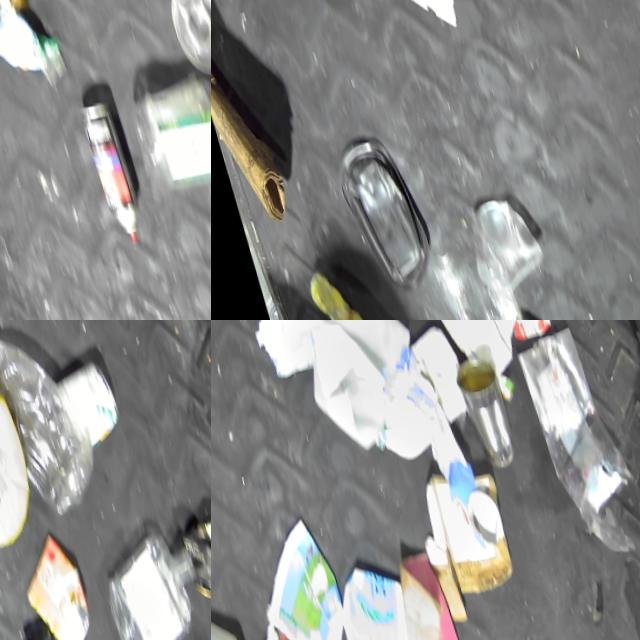can: (1, 516, 95, 640), (71, 90, 145, 243), (461, 178, 547, 296), (445, 339, 520, 468), (49, 344, 125, 446), (494, 320, 557, 337)
plastic_bottle: (0, 320, 108, 526), (114, 47, 211, 197)
